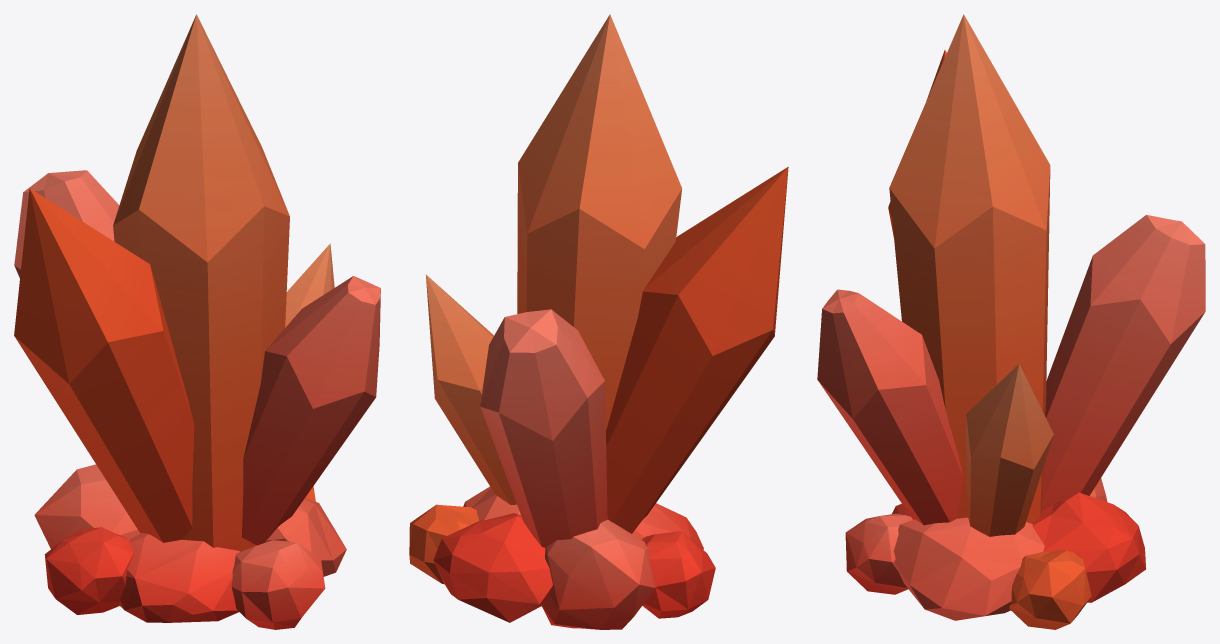
Rendered from CrystalResource2.glb.
3 renders of one model, left to right at view 1: azimuth 30°, elevation 25°; view 2: azimuth 150°, elevation 25°; view 3: azimuth 270°, elevation 25°, orthographic. The views are drawn at different scales.
Visible parts, largest first — view 1: CrystalResource2, Cube.009, Cube.011, Landscape.007, Landscape.012, Landscape.011, Landscape.010, Cube.008, Landscape.008, Cube.010; view 2: CrystalResource2, Cube.009, Cube.008, Landscape.010, Landscape.009, Cube.010, Landscape.011, Landscape.013, Landscape.007, Landscape.008; view 3: CrystalResource2, Cube.008, Cube.011, Cube.010, Landscape.008, Landscape.009, Landscape.013, Landscape.012.
Boxes of the visible parts, box(x1,y1,x2,y2) form: CrystalResource2: box(113, 14, 289, 551); Cube.009: box(14, 188, 194, 542); Cube.011: box(242, 276, 380, 545); Landscape.007: box(118, 533, 239, 622); Landscape.012: box(231, 540, 325, 629); Landscape.011: box(44, 527, 133, 614); Landscape.010: box(34, 464, 140, 548); Cube.008: box(14, 170, 119, 277); Landscape.008: box(264, 497, 346, 576); Cube.010: box(285, 243, 334, 327); CrystalResource2: box(517, 14, 682, 430); Cube.009: box(606, 166, 788, 533); Cube.008: box(480, 309, 607, 547); Landscape.010: box(542, 519, 655, 629); Landscape.009: box(433, 513, 552, 622); Cube.010: box(426, 274, 516, 504); Landscape.011: box(642, 531, 715, 618); Landscape.013: box(409, 504, 478, 584); Landscape.007: box(632, 503, 703, 549); Landscape.008: box(463, 486, 520, 520); CrystalResource2: box(889, 14, 1050, 523); Cube.008: box(1042, 215, 1205, 510); Cube.011: box(817, 289, 963, 525); Cube.010: box(966, 364, 1053, 536); Landscape.008: box(894, 517, 1044, 620); Landscape.009: box(1031, 492, 1146, 602); Landscape.013: box(1009, 549, 1091, 629); Landscape.012: box(845, 513, 912, 594).
Bounding box in the file's own units: 0.4149 × 0.6968 × 0.434.
1 material, 1 textured.
